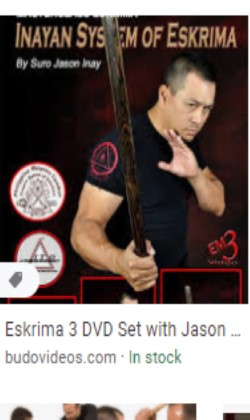baston_e: (98, 22, 159, 245)
